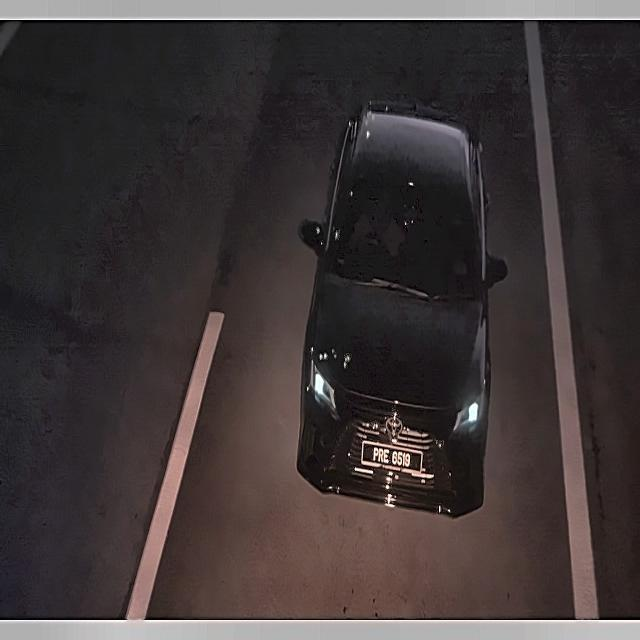car: (357, 428, 426, 480)
